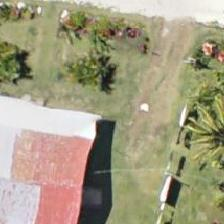coconut_tree: (169, 93, 223, 183)
